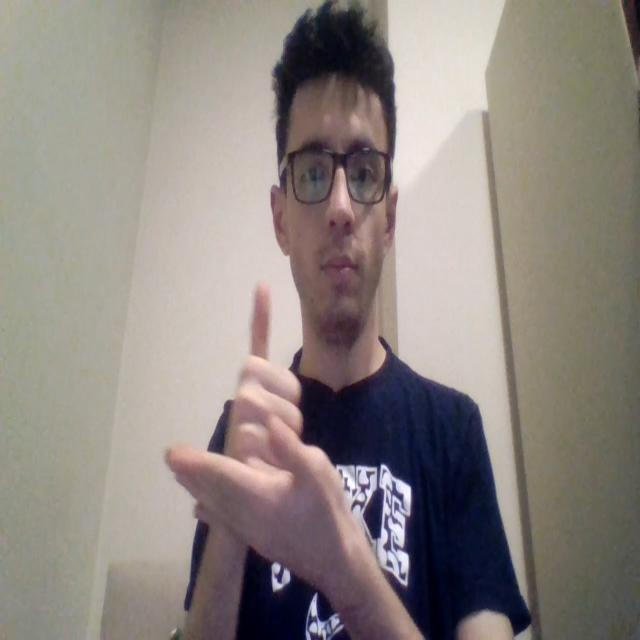help: (164, 285, 353, 572)
